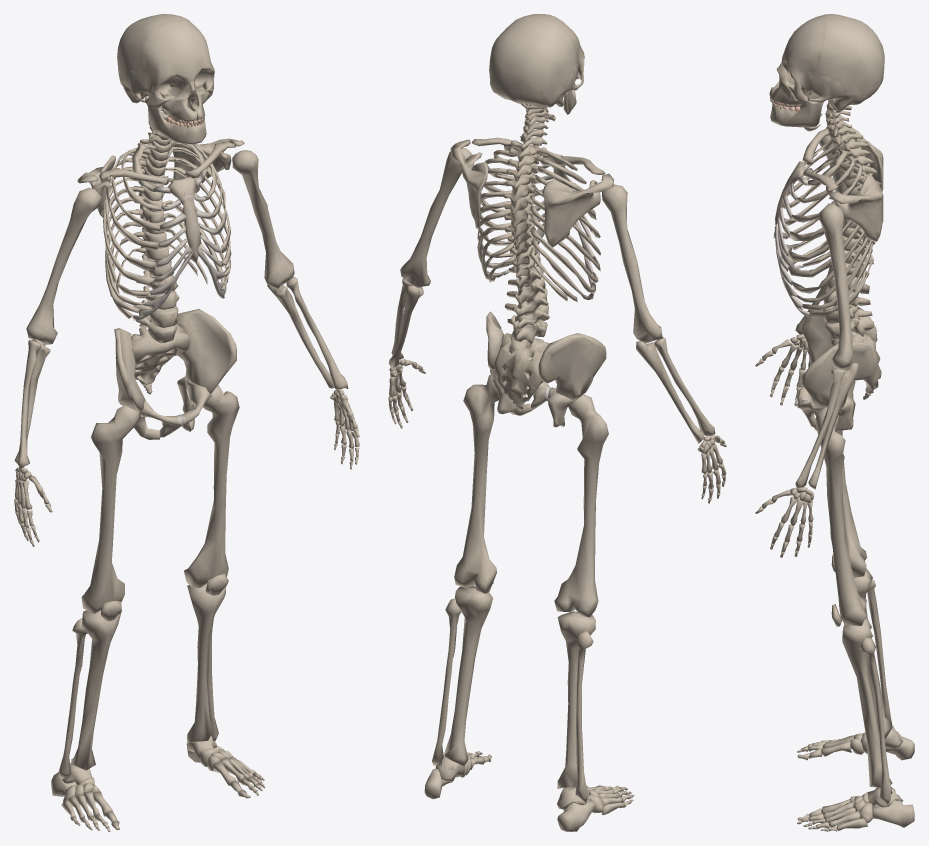
The model's file is 3d-model-converted.glb.
3 views of the same model, side by side, from view 1: azimuth 30°, elevation 25°; view 2: azimuth 150°, elevation 25°; view 3: azimuth 270°, elevation 25° (orthographic). The views are drawn at different scales.
Visible parts, largest first — view 1: Teeth_Bottom_low; view 2: Teeth_Bottom_low; view 3: Teeth_Bottom_low.
Boxes of the visible parts, left/top/right/bottom form: Teeth_Bottom_low: left=14, top=14, right=359, bottom=831; Teeth_Bottom_low: left=388, top=14, right=726, bottom=831; Teeth_Bottom_low: left=755, top=14, right=914, bottom=831.
Size of the model in its own units: 0.7812 by 1.78 by 0.3331.
Materials: 1 (1 with a texture image).
